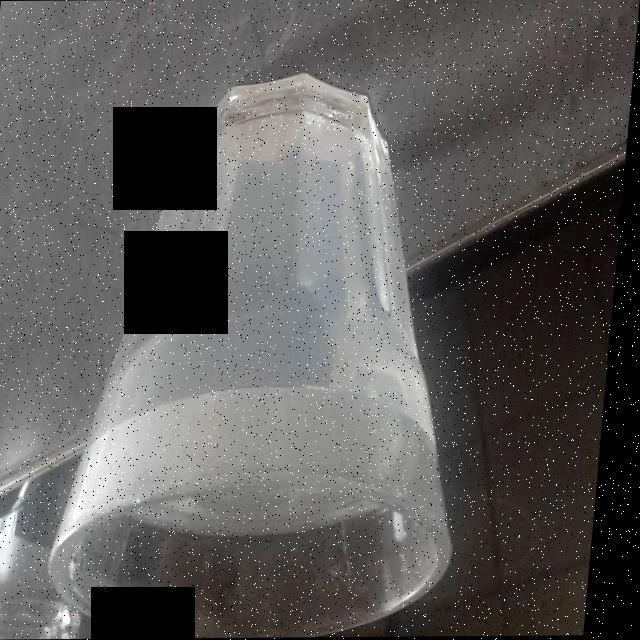drink: (102, 98, 436, 550)
